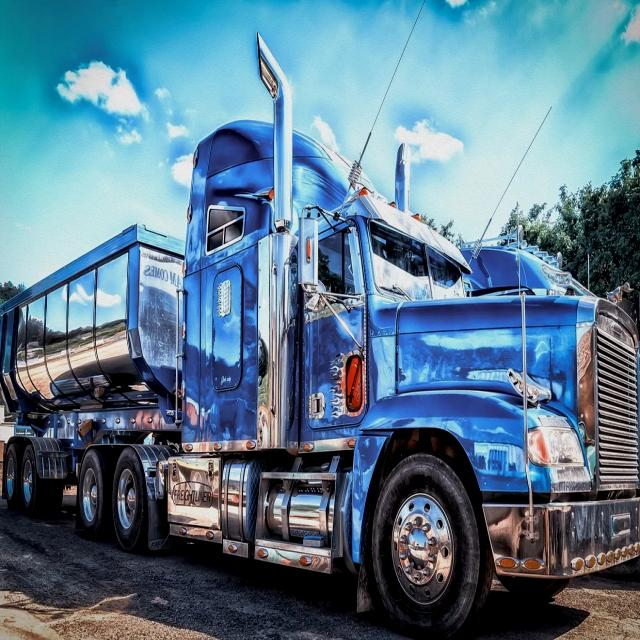TRUCK: (0, 29, 624, 636)
